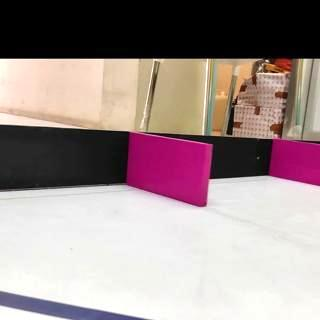xparking: (136, 145, 208, 194), (277, 144, 320, 180)
